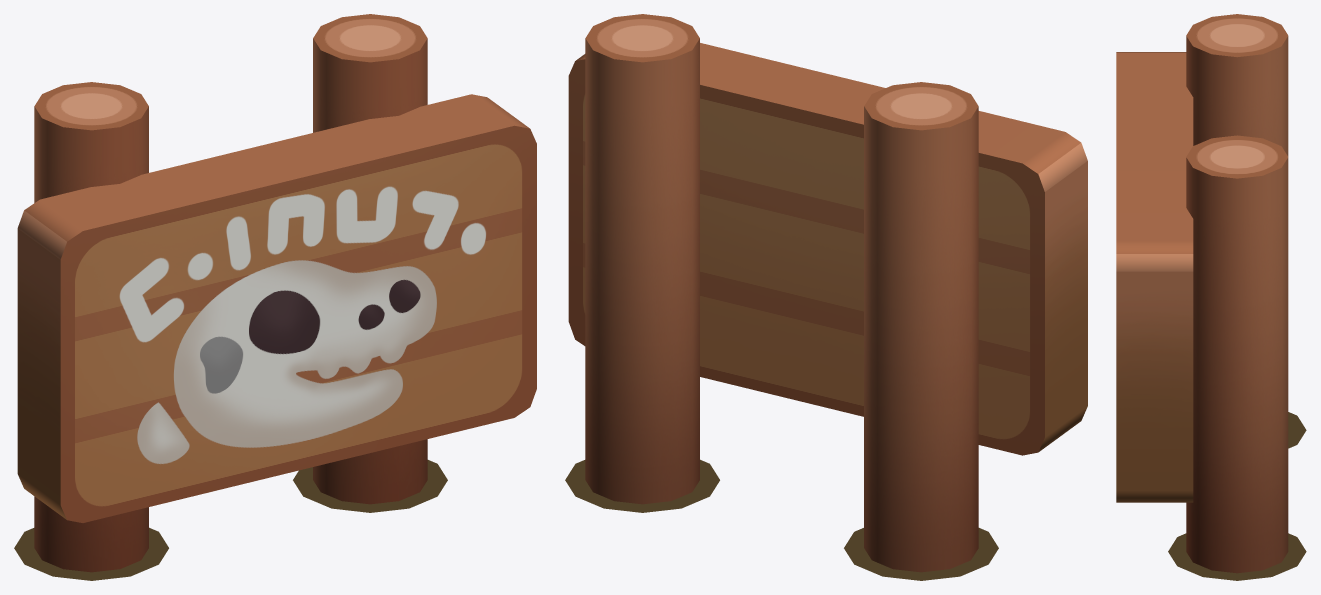
Rendered from Mu_Notice01.fbx.
The picture shows the model from 3 angles, left to right: view 1: azimuth 30°, elevation 25°; view 2: azimuth 150°, elevation 25°; view 3: azimuth 270°, elevation 25°; orthographic projection. The views are drawn at different scales.
Parts seen in each view (by area): view 1: Mu_Notice01, Mu_Notice0_shadow; view 2: Mu_Notice01, Mu_Notice0_shadow; view 3: Mu_Notice01, Mu_Notice0_shadow.
Boxes of the visible parts, x1=… form: Mu_Notice01: x1=17, y1=14, x2=536, y2=572; Mu_Notice0_shadow: x1=14, y1=460, x2=447, y2=580; Mu_Notice01: x1=568, y1=14, x2=1087, y2=572; Mu_Notice0_shadow: x1=565, y1=459, x2=998, y2=580; Mu_Notice01: x1=1116, y1=14, x2=1288, y2=573; Mu_Notice0_shadow: x1=1168, y1=412, x2=1306, y2=580.
Bounding box in the file's own units: 158 × 140 × 61.04.
2 materials, 1 textured.
